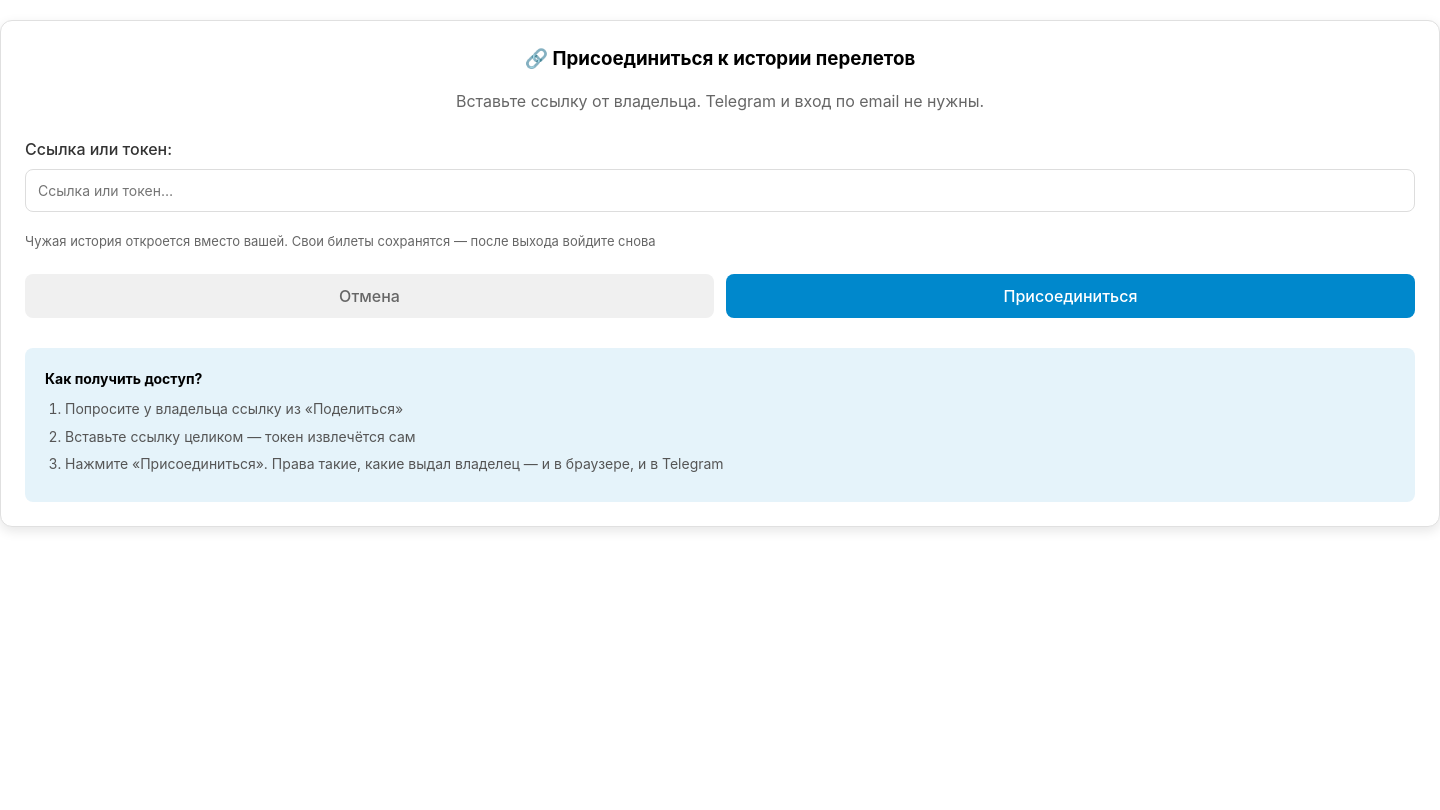
JoinSessionForm › extracts a token from a pasted web link and stays open on failure
Type "https://kayatkin.github.io/flight-tracker/?token=abc123token9" into the field labelled "Ссылка или токен:".
click(720, 191); type("https://kayatkin.github.io/flight-tracker/?token=abc123token9")  # box x1=25 y1=169 x2=1415 y2=212
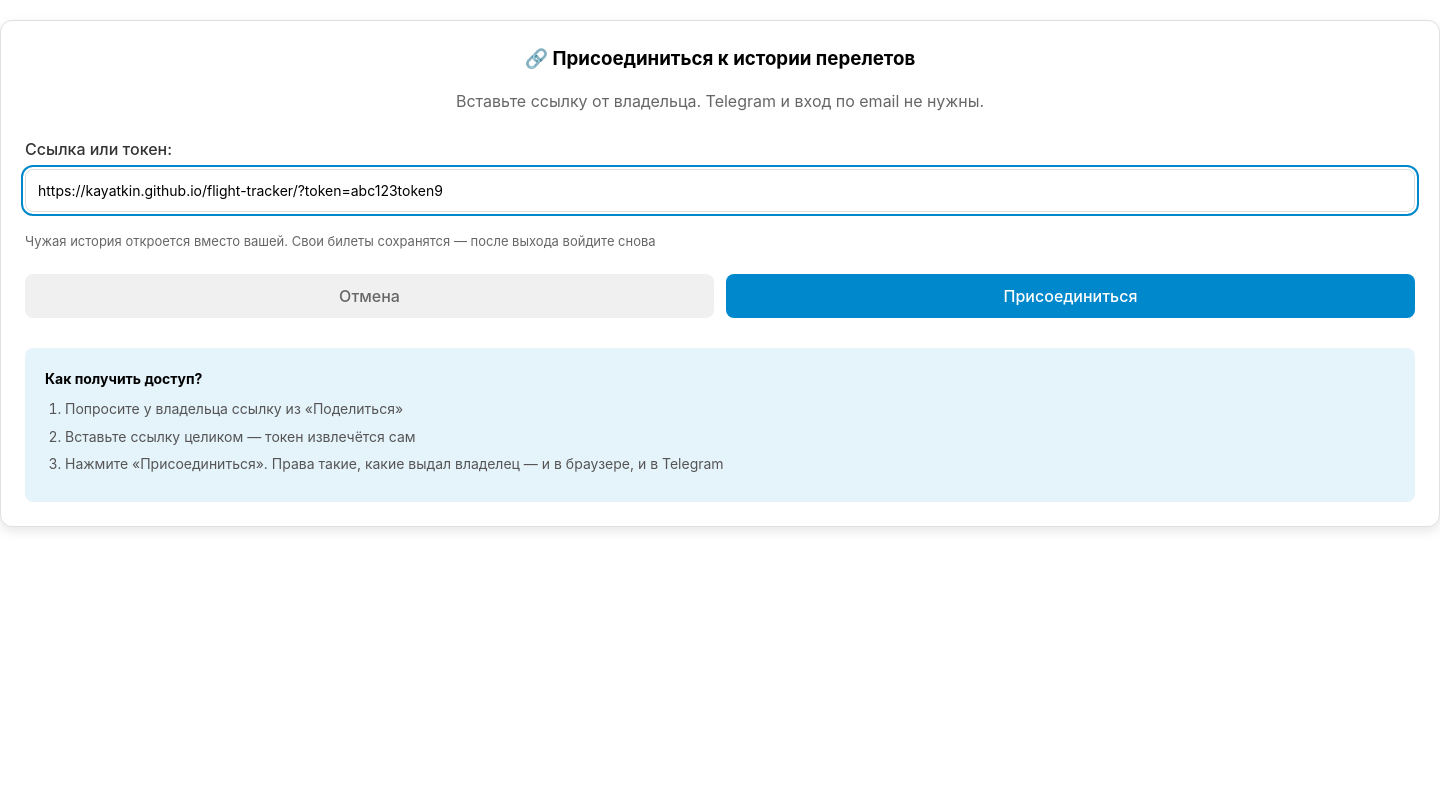
Click the button "Присоединиться".
click(1070, 296)  # box x1=726 y1=274 x2=1415 y2=318
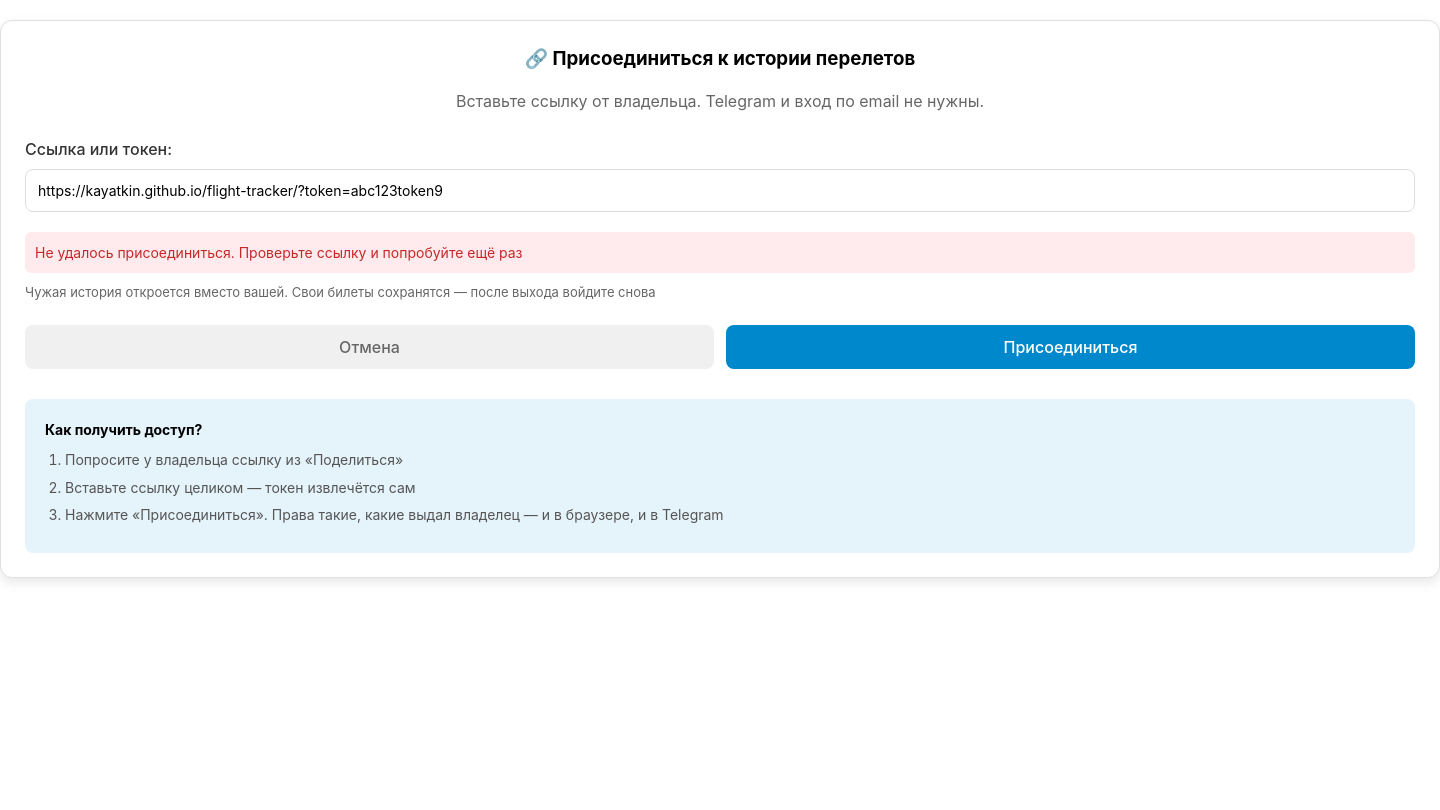
Expected: the button "Присоединиться" is enabled, x1=726 y1=325 x2=1415 y2=369
Now the message shows "Не удалось присоединиться", box x1=35 y1=244 x2=522 y2=261
